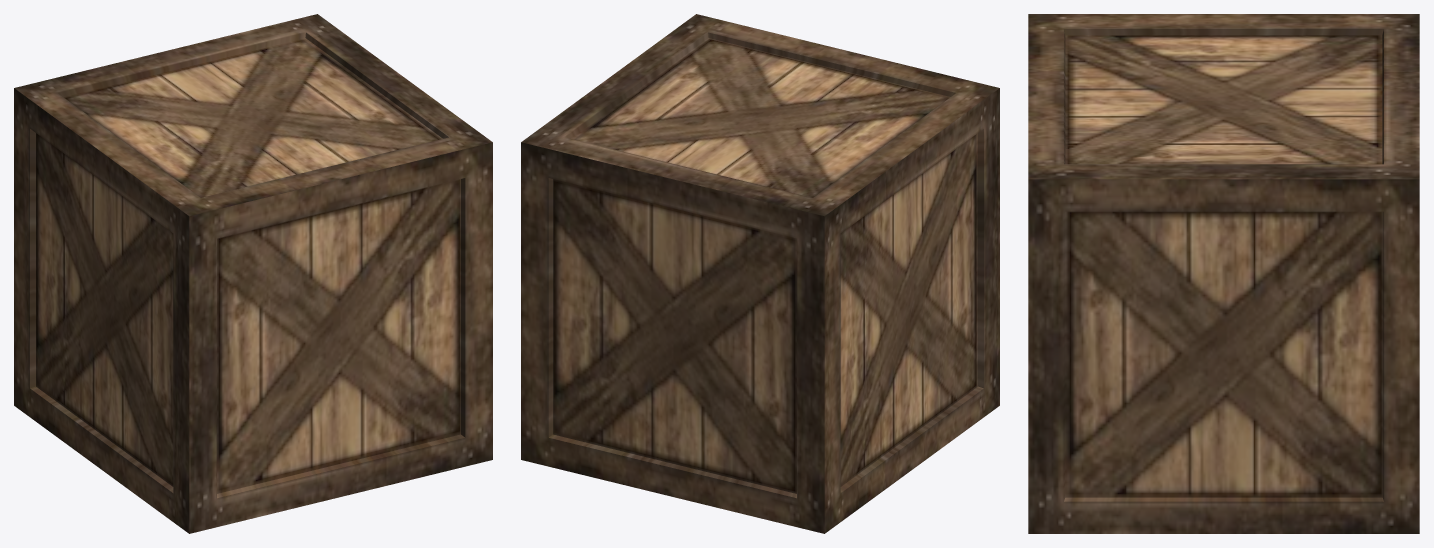
File: crate_big.glb
The picture shows the model from 3 angles, left to right: view 1: azimuth 30°, elevation 25°; view 2: azimuth 150°, elevation 25°; view 3: azimuth 270°, elevation 25°; orthographic projection. The views are drawn at different scales.
Parts seen in each view (by area): view 1: crate_big; view 2: crate_big; view 3: crate_big.
Part boxes in pixels (box(x1,y1,x2,y2)): crate_big: box(14, 14, 492, 533); crate_big: box(521, 14, 999, 533); crate_big: box(1028, 14, 1419, 533).
Size of the model in its own units: 1 by 1 by 1.
1 material, 1 textured.
